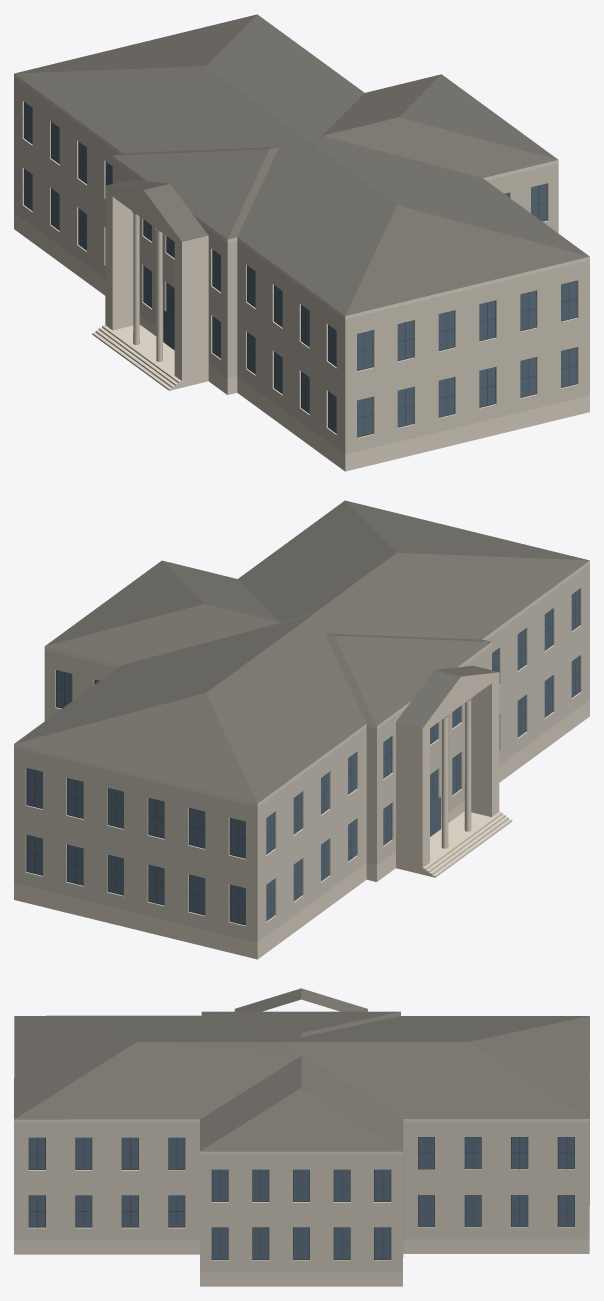
Rendered from dc-au-hurst-hall.detail.glb.
3 views of the same model, one above another, from view 1: azimuth 30°, elevation 25°; view 2: azimuth 150°, elevation 25°; view 3: azimuth 270°, elevation 25° (orthographic). The views are drawn at different scales.
Visible parts, largest first — view 1: Hurst Hall; view 2: Hurst Hall; view 3: Hurst Hall.
Part boxes in pixels (x1,y1,x2,y2): Hurst Hall: (14,14,589,471); Hurst Hall: (14,500,589,959); Hurst Hall: (14,988,589,1286).
Size of the model in its own units: 35.55 by 17.01 by 55.25.
